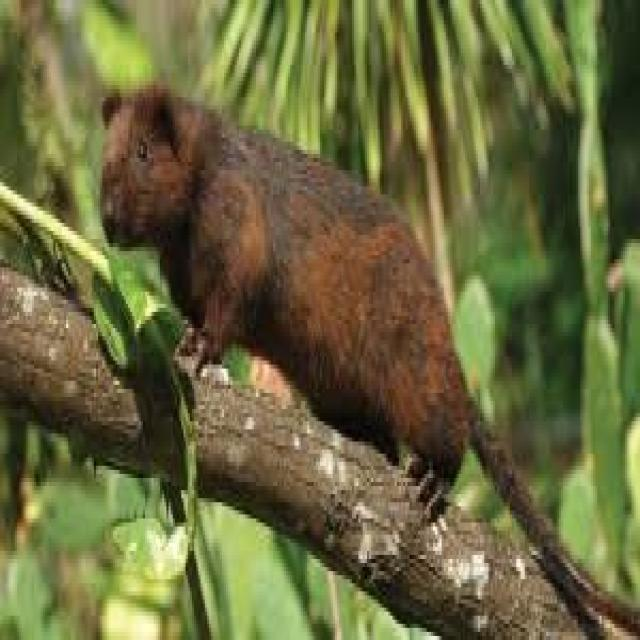rat: (98, 77, 480, 518)
